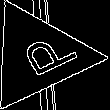P_SW: (3, 28, 73, 84)
